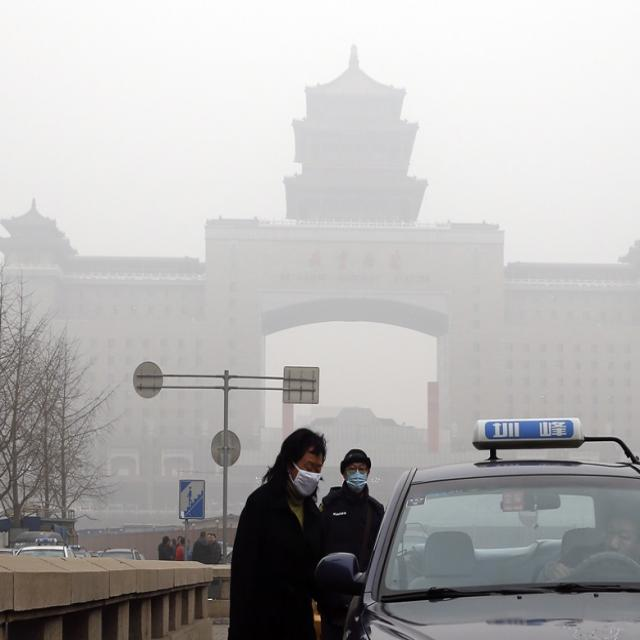mask: (296, 450, 323, 494), (346, 461, 366, 485)
nomask: (603, 518, 634, 558)
